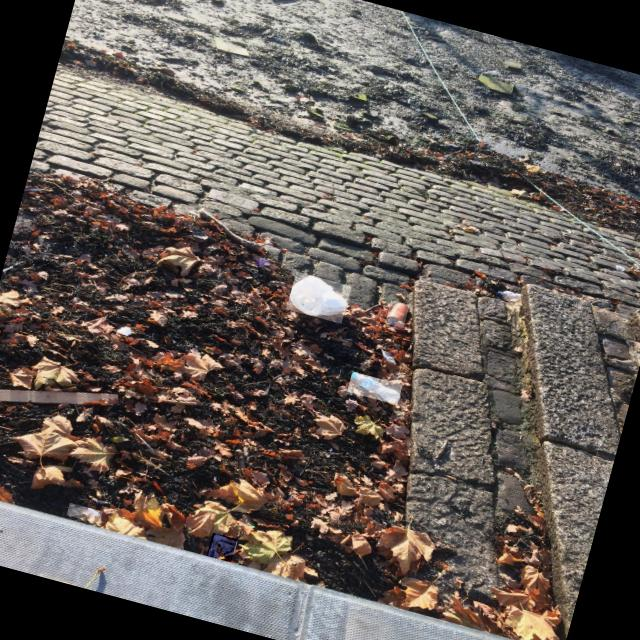Clear plastic bottle: (351, 373, 399, 404)
Other can: (386, 303, 408, 325)
Paper bag: (207, 533, 236, 560)
Plastic film: (68, 508, 101, 519)
Single-use carrier bag: (290, 275, 347, 316)
